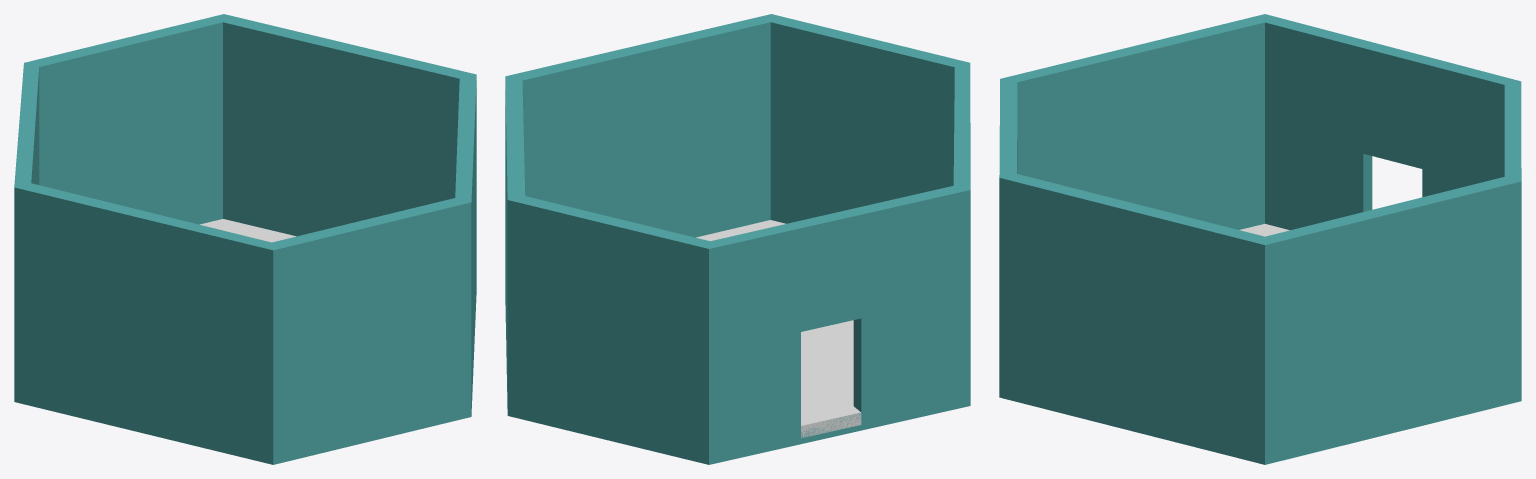
3 views of the same model, side by side, from view 1: azimuth 30°, elevation 25°; view 2: azimuth 150°, elevation 25°; view 3: azimuth 270°, elevation 25° (orthographic). The views are drawn at different scales.
Visible parts, largest first — view 1: Sala 11, Sala 11.001; view 2: Sala 11, Sala 11.001; view 3: Sala 11.
Boxes of the visible parts, box(x1,y1,x2,y2) form: Sala 11: box(14, 14, 476, 464); Sala 11.001: box(200, 219, 296, 242); Sala 11: box(505, 14, 970, 464); Sala 11.001: box(696, 220, 861, 437); Sala 11: box(999, 14, 1521, 464).
Bounding box in the file's own units: 5462 × 2422 × 5212.
